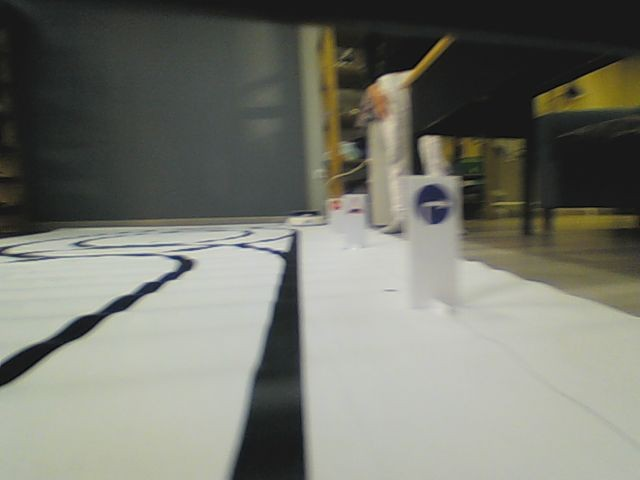Right: (414, 183, 453, 224)
